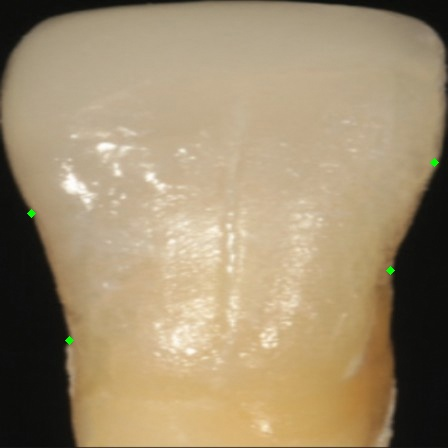coin_1: (69, 340, 89, 360)
coin_2: (31, 213, 51, 233)
coin_3: (390, 270, 410, 290)
coin_4: (434, 162, 448, 182)
